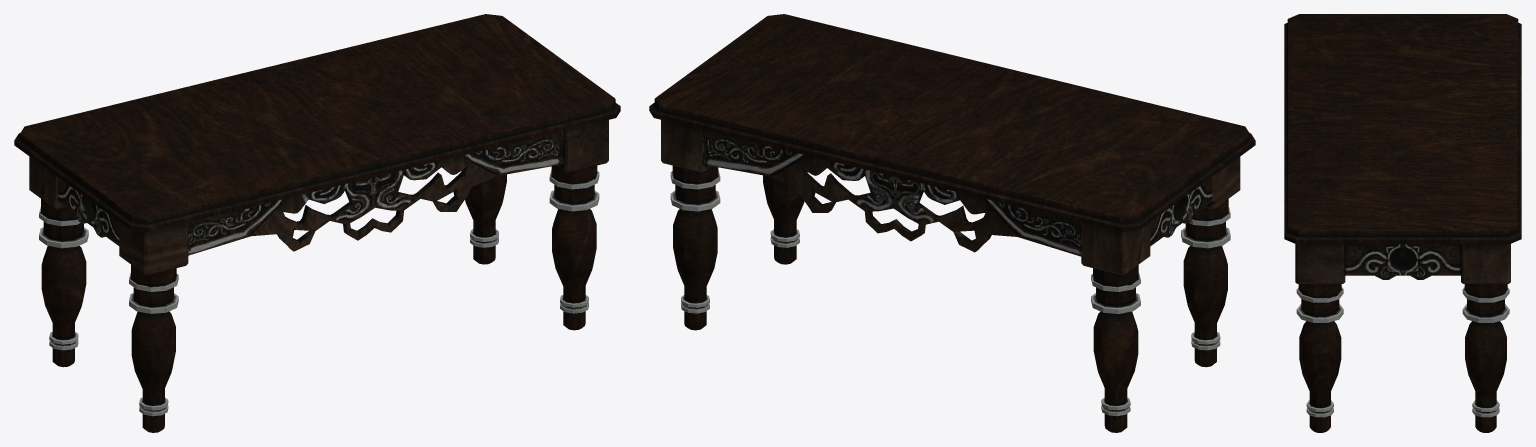
File: table-coffee-carved.glb
The picture shows the model from 3 angles, left to right: view 1: azimuth 30°, elevation 25°; view 2: azimuth 150°, elevation 25°; view 3: azimuth 270°, elevation 25°; orthographic projection. The views are drawn at different scales.
Parts seen in each view (by area): view 1: table-coffee-carved; view 2: table-coffee-carved; view 3: table-coffee-carved.
Part boxes in pixels (box(x1,y1,x2,y2)): table-coffee-carved: box(14, 14, 620, 432); table-coffee-carved: box(649, 14, 1255, 432); table-coffee-carved: box(1284, 14, 1521, 432).
Size of the model in its own units: 1 by 0.45 by 0.4559.
Materials: 1 (1 with a texture image).
